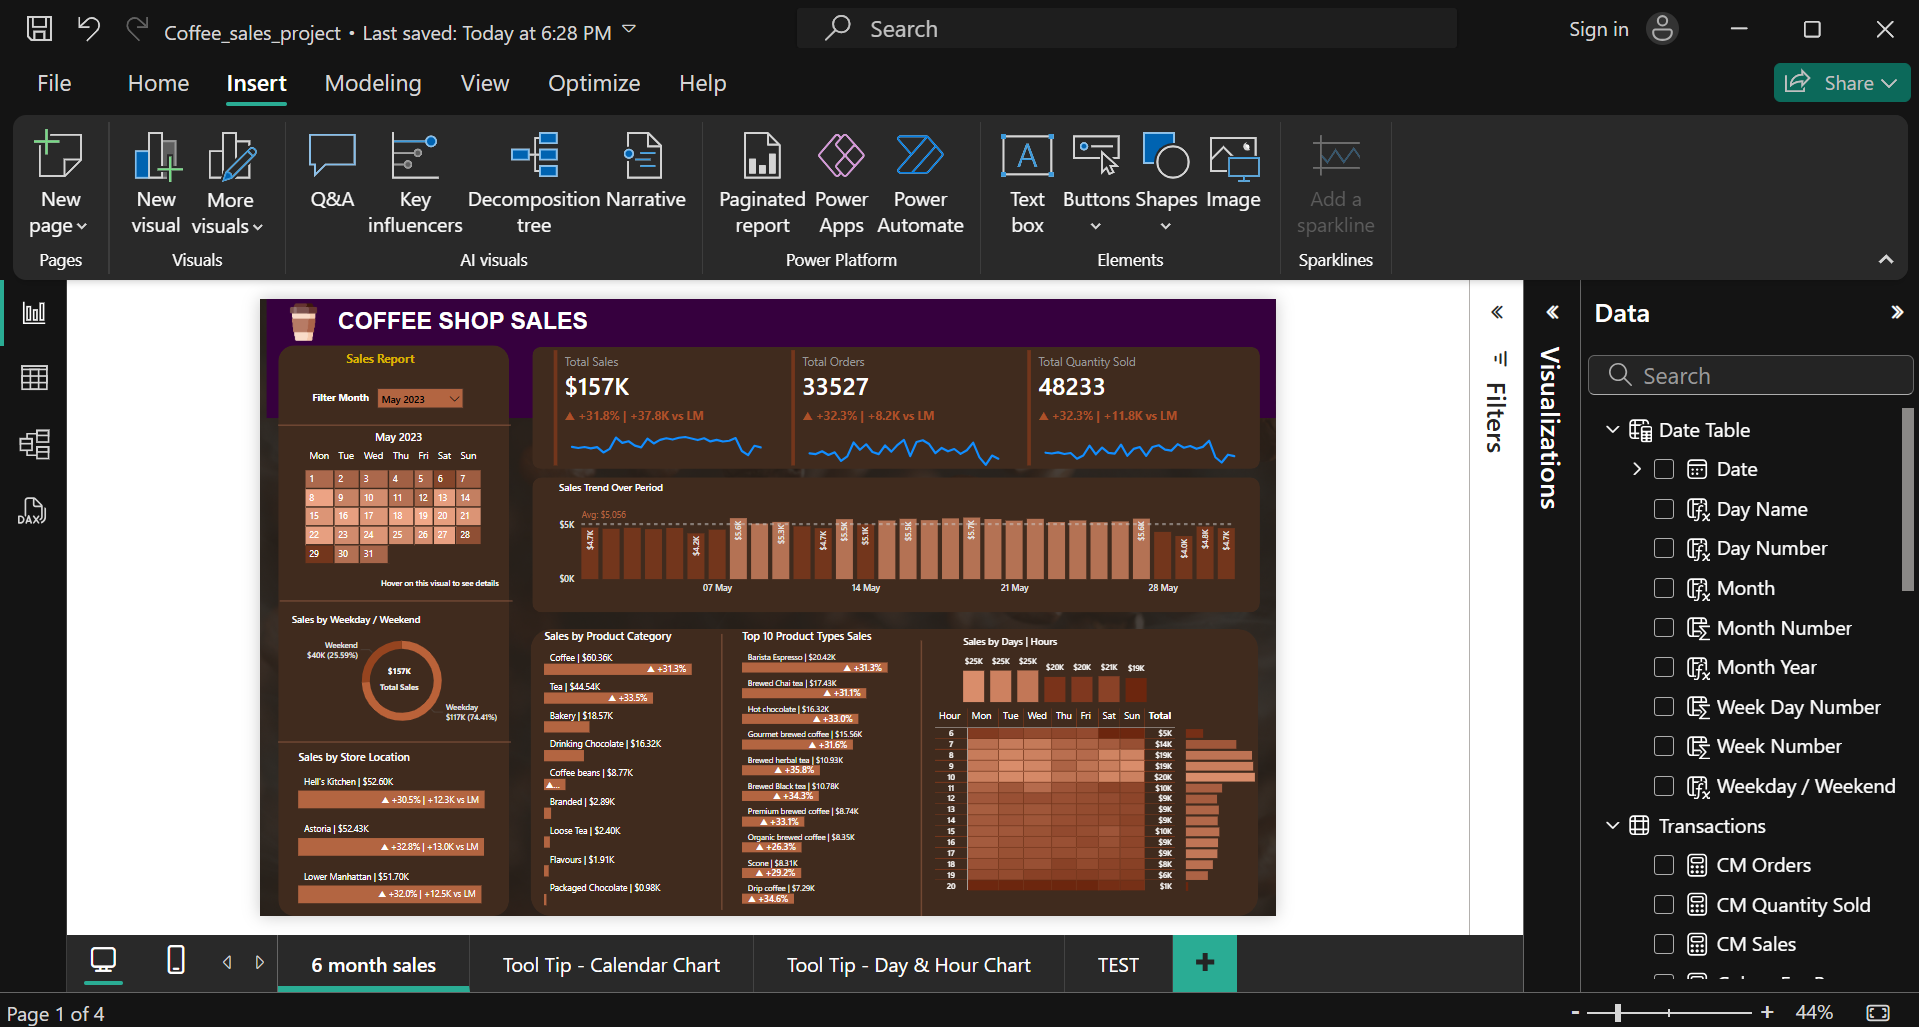

What the dashboard file says about the page in this screenshot:
{"tool":"powerbi","page":{"name":"6 month sales","canvas":[1400,850],"ordinal":0},"visuals":[{"type":"shape","box":[10,0,1390,164],"z":0},{"type":"cardVisual","fields":{"Data":["Transactions.Total Orders"]},"box":[732,70,300,164.8],"z":0,"group":"g2"},{"type":"cardVisual","fields":{"Data":["Transactions.Total Quantity Sold"]},"box":[1056,70,300,164.8],"z":0,"group":"g3"},{"type":"cardVisual","fields":{"Data":["Transactions.Total Sales"]},"box":[405.6,70.4,300,164.8],"z":0,"group":"g1"},{"type":"shape","box":[25,63.6,318.2,786.4],"z":1000},{"type":"lineChart","fields":{"Category":["Date Table.Date.Variation.Date Hierarchy.Year","Date Table.Date.Variation.Date Hierarchy.Quarter","Date Table.Date.Variation.Date Hierarchy.Month","Date Table.Date.Variation.Date Hierarchy.Day"],"Y":["Transactions.Total Orders"]},"box":[732,149.6,300,85.2],"z":1000,"group":"g2"},{"type":"lineChart","fields":{"Category":["Date Table.Date.Variation.Date Hierarchy.Year","Date Table.Date.Variation.Date Hierarchy.Quarter","Date Table.Date.Variation.Date Hierarchy.Month","Date Table.Date.Variation.Date Hierarchy.Day"],"Y":["Transactions.Total Quantity Sold"]},"box":[1056,149.6,300,85.2],"z":1000,"group":"g3"},{"type":"lineChart","fields":{"Category":["Date Table.Date.Variation.Date Hierarchy.Year","Date Table.Date.Variation.Date Hierarchy.Quarter","Date Table.Date.Variation.Date Hierarchy.Month","Date Table.Date.Variation.Date Hierarchy.Day"],"Y":["Transactions.Total Sales"]},"box":[405.6,150,300,85.2],"z":1000,"group":"g1"},{"type":"shape","box":[375,65.9,1002.3,168.2],"z":2000},{"type":"textbox","box":[102,6,364,64],"z":3000},{"type":"slicer","fields":{"Values":["Date Table.Month Year"]},"box":[156,118,128,52],"z":4000},{"type":"group","id":"g1","title":"Group 1","box":[405.6,70.4,300,164.8],"z":5000},{"type":"group","id":"g2","title":"Group 1","box":[732,70,300,166],"z":6000},{"type":"group","id":"g3","title":"Group 1","box":[1056,70,300,166],"z":7000},{"type":"pivotTable","fields":{"Columns":["Date Table.Day Name"],"Values":["Min(Date Table.Day Number)"],"Rows":["Date Table.Week Number"]},"box":[31.8,197.7,286.4,209.1],"z":8000},{"type":"card","fields":{"Values":["Min(Date Table.Month Year)"]},"box":[137.2,173.7,109.3,38.6],"z":9000},{"type":"card","fields":{"Values":["Transactions.Foot Note"]},"box":[145.8,379.5,201.5,27.9],"z":10000},{"type":"shape","box":[27.3,406.8,320.4,18.2],"z":11000},{"type":"shape","box":[25,165.9,320.4,15.9],"z":12000},{"type":"donutChart","title":"Sales by Weekday / Weekend","fields":{"Y":["Transactions.Total Sales"],"Category":["Date Table.Weekday / Weekend"]},"box":[38.6,431.8,313.6,170.5],"z":13000},{"type":"card","fields":{"Values":["Transactions.Total Sales"]},"box":[132,498,120,50],"z":14000},{"type":"shape","box":[25,602.3,320.4,15.9],"z":15000},{"type":"clusteredBarChart","title":"Sales by Store Location","fields":{"Category":["Transactions.store_location"],"Y":["Transactions.Placeholder","Transactions.Total Sales"]},"box":[47.7,620.5,295.5,220.5],"z":16000},{"type":"shape","box":[375,245.5,1002.3,186.4],"z":17000},{"type":"shape","box":[372.7,454.5,1002.3,395.4],"z":18000},{"type":"columnChart","title":"Sales Trend Over Period","fields":{"Y":["Transactions.Total Sales"],"Category":["Transactions.transaction_date"]},"box":[406,250,950,166],"z":19000},{"type":"clusteredBarChart","title":"Sales by Product Category","fields":{"Y":["Transactions.Placeholder","Transactions.Total Sales"],"Category":["Transactions.product_category"]},"box":[386.4,454.5,245.4,386.4],"z":20000},{"type":"shape","box":[624.4,462.2,22.2,380],"z":21000},{"type":"shape","box":[900,470,22,380],"z":22000},{"type":"clusteredBarChart","title":"Top 10 Product Types Sales","fields":{"Y":["Transactions.Placeholder","Transactions.Total Sales"],"Category":["Transactions.product_type"]},"box":[658.7,454.3,267.4,387],"z":23000},{"type":"pivotTable","fields":{"Rows":["Transactions.Hour"],"Columns":["Date Table.Day Name"],"Values":["Transactions.Total Sales"]},"box":[926,560,348,270],"z":24000},{"type":"clusteredBarChart","fields":{"Category":["Transactions.Hour"],"Y":["Transactions.Total Sales"]},"box":[1270.5,579.5,106.8,240.9],"z":25000},{"type":"clusteredColumnChart","title":" Sales by Days | Hours","fields":{"Y":["Transactions.Total Sales"],"Category":["Date Table.Day Name"]},"box":[963.6,461.4,263.6,100],"z":26000},{"type":"textbox","box":[40.9,120.5,136.4,45.5],"z":27000},{"type":"textbox","box":[113.6,65.9,127.3,38.6],"z":27001},{"type":"image","box":[29.5,0,61.4,63.6],"z":27002}]}

Visuals, with their boxes on the page's 1400x850 design canvas (x1, y1, x2, y2). These are canvas units, not pixel positions in the 1919x1027 screenshot, which may show the page scaled, cropped or inside an application window:
shape: pyautogui.locateOnScreen(10, 0, 1400, 164)
cardVisual - Transactions.Total Orders: pyautogui.locateOnScreen(732, 70, 1032, 235)
cardVisual - Transactions.Total Quantity Sold: pyautogui.locateOnScreen(1056, 70, 1356, 235)
cardVisual - Transactions.Total Sales: pyautogui.locateOnScreen(406, 70, 706, 235)
shape: pyautogui.locateOnScreen(25, 64, 343, 850)
lineChart - Date Table.Date.Variation.Date Hierarchy.Year x Date Table.Date.Variation.Date Hierarchy.Quarter: pyautogui.locateOnScreen(732, 150, 1032, 235)
lineChart - Date Table.Date.Variation.Date Hierarchy.Year x Date Table.Date.Variation.Date Hierarchy.Quarter: pyautogui.locateOnScreen(1056, 150, 1356, 235)
lineChart - Date Table.Date.Variation.Date Hierarchy.Year x Date Table.Date.Variation.Date Hierarchy.Quarter: pyautogui.locateOnScreen(406, 150, 706, 235)
shape: pyautogui.locateOnScreen(375, 66, 1377, 234)
textbox: pyautogui.locateOnScreen(102, 6, 466, 70)
slicer - Date Table.Month Year: pyautogui.locateOnScreen(156, 118, 284, 170)
"Group 1" group: pyautogui.locateOnScreen(406, 70, 706, 235)
"Group 1" group: pyautogui.locateOnScreen(732, 70, 1032, 236)
"Group 1" group: pyautogui.locateOnScreen(1056, 70, 1356, 236)
pivotTable - Date Table.Day Name x Min(Date Table.Day Number): pyautogui.locateOnScreen(32, 198, 318, 407)
card - Min(Date Table.Month Year): pyautogui.locateOnScreen(137, 174, 246, 212)
card - Transactions.Foot Note: pyautogui.locateOnScreen(146, 380, 347, 407)
shape: pyautogui.locateOnScreen(27, 407, 348, 425)
shape: pyautogui.locateOnScreen(25, 166, 345, 182)
"Sales by Weekday / Weekend" donutChart: pyautogui.locateOnScreen(39, 432, 352, 602)
card - Transactions.Total Sales: pyautogui.locateOnScreen(132, 498, 252, 548)
shape: pyautogui.locateOnScreen(25, 602, 345, 618)
"Sales by Store Location" clusteredBarChart: pyautogui.locateOnScreen(48, 620, 343, 841)
shape: pyautogui.locateOnScreen(375, 246, 1377, 432)
shape: pyautogui.locateOnScreen(373, 454, 1375, 850)
"Sales Trend Over Period" columnChart: pyautogui.locateOnScreen(406, 250, 1356, 416)
"Sales by Product Category" clusteredBarChart: pyautogui.locateOnScreen(386, 454, 632, 841)
shape: pyautogui.locateOnScreen(624, 462, 647, 842)
shape: pyautogui.locateOnScreen(900, 470, 922, 850)
"Top 10 Product Types Sales" clusteredBarChart: pyautogui.locateOnScreen(659, 454, 926, 841)
pivotTable - Transactions.Hour x Date Table.Day Name: pyautogui.locateOnScreen(926, 560, 1274, 830)
clusteredBarChart - Transactions.Hour x Transactions.Total Sales: pyautogui.locateOnScreen(1270, 580, 1377, 820)
" Sales by Days | Hours" clusteredColumnChart: pyautogui.locateOnScreen(964, 461, 1227, 561)
textbox: pyautogui.locateOnScreen(41, 120, 177, 166)
textbox: pyautogui.locateOnScreen(114, 66, 241, 104)
image: pyautogui.locateOnScreen(30, 0, 91, 64)
